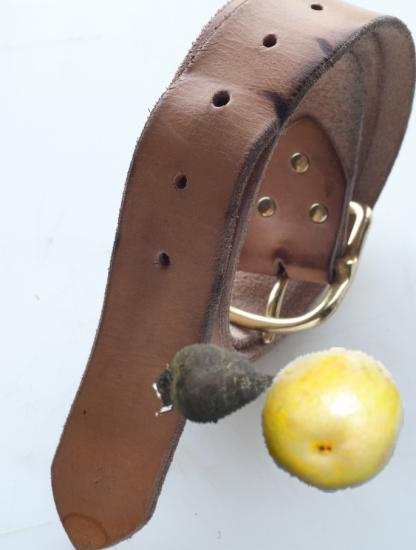Beetroot: (147, 308, 291, 452)
Maracuja: (258, 347, 404, 493)
